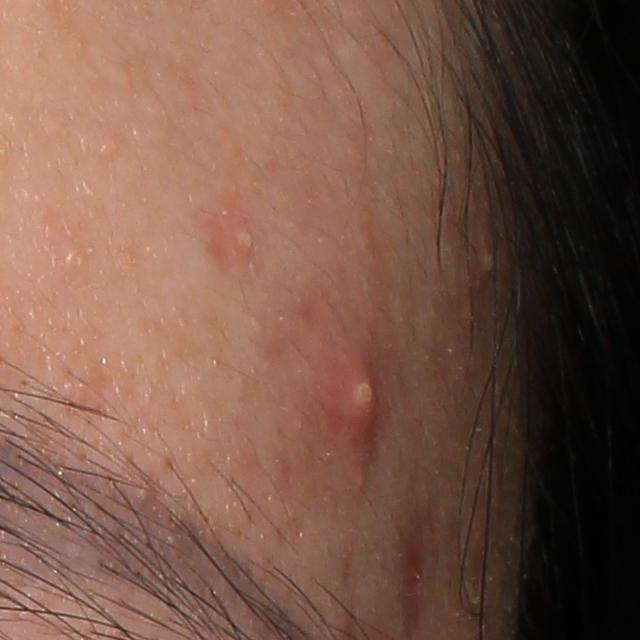comedo: (55, 248, 89, 275)
pustule: (331, 347, 382, 449), (212, 209, 265, 266)
